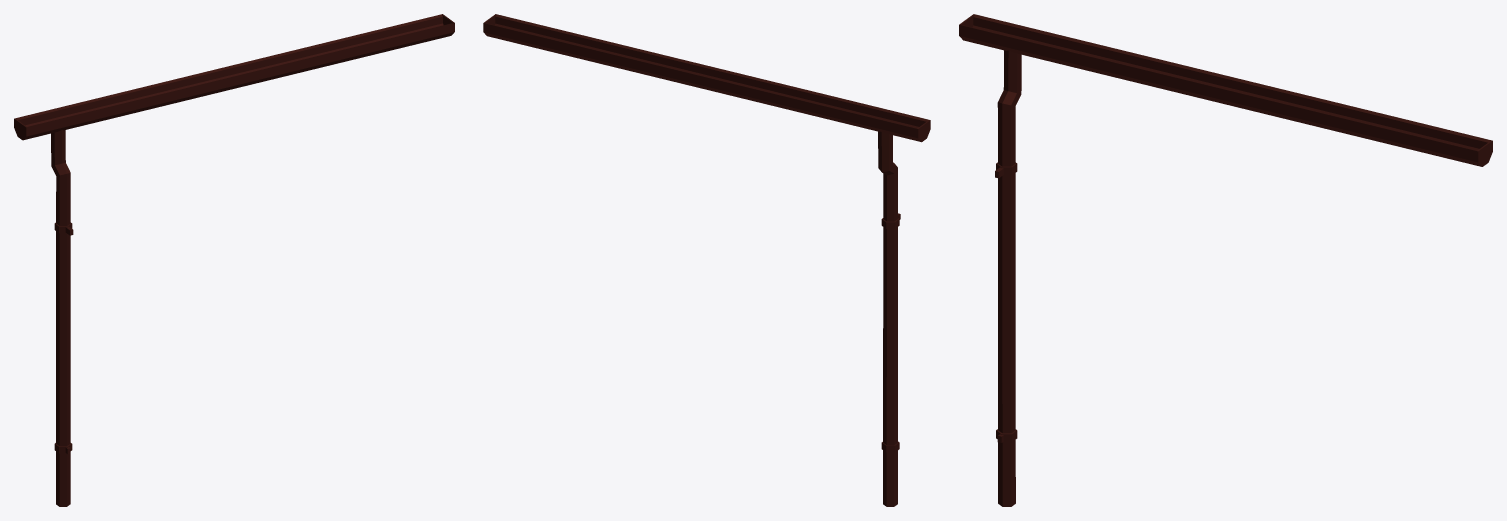
Rendered from rainwater channel2.fbx.
3 renders of one model, left to right at view 1: azimuth 30°, elevation 25°; view 2: azimuth 150°, elevation 25°; view 3: azimuth 330°, elevation 25°, orthographic. The views are drawn at different scales.
Visible parts, largest first — view 1: canale, tubo_canale; view 2: canale, tubo_canale; view 3: canale, tubo_canale.
Part boxes in pixels (box(x1,y1,x2,y2)): canale: box(16, 14, 454, 139); tubo_canale: box(51, 130, 70, 506); canale: box(483, 14, 928, 141); tubo_canale: box(878, 131, 897, 506); canale: box(960, 14, 1490, 166); tubo_canale: box(997, 50, 1021, 506).
Bounding box in the file's own units: 678 × 585 × 52.71.
